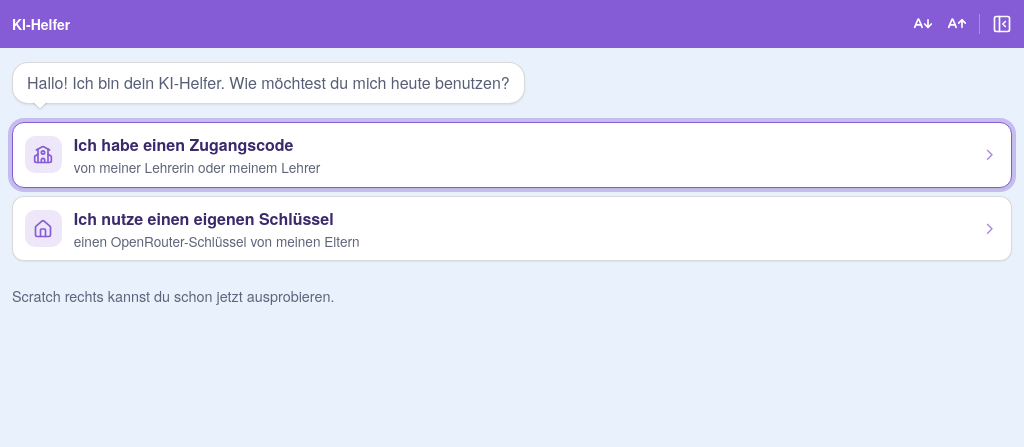
Test: AccessGate › a key in the code field is not sent: the kid is told to pick the other answer
Click the button "Ich habe einen Zugangscode". click: [43, 155]
box: [12,122,1012,188]
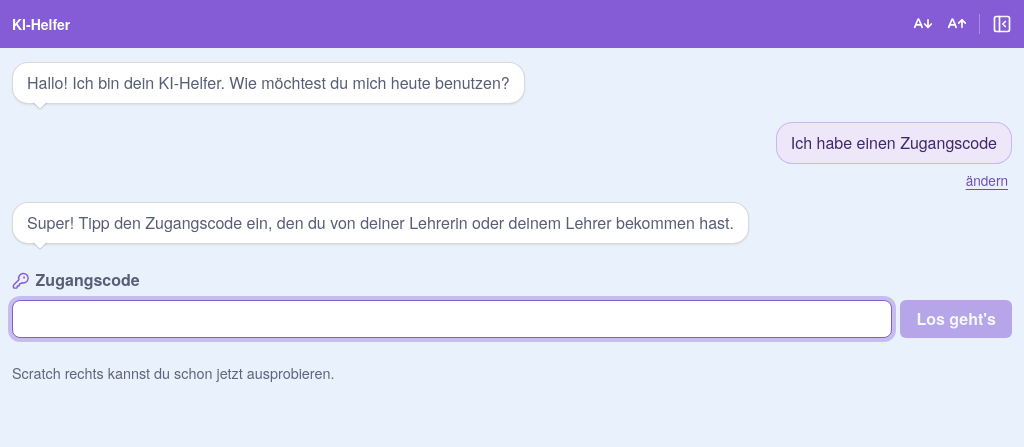
Type "sk-or-v1-AbCdEf0123456789" into the field labelled "Zugangscode". click: [452, 319]
box: [12,300,892,338]
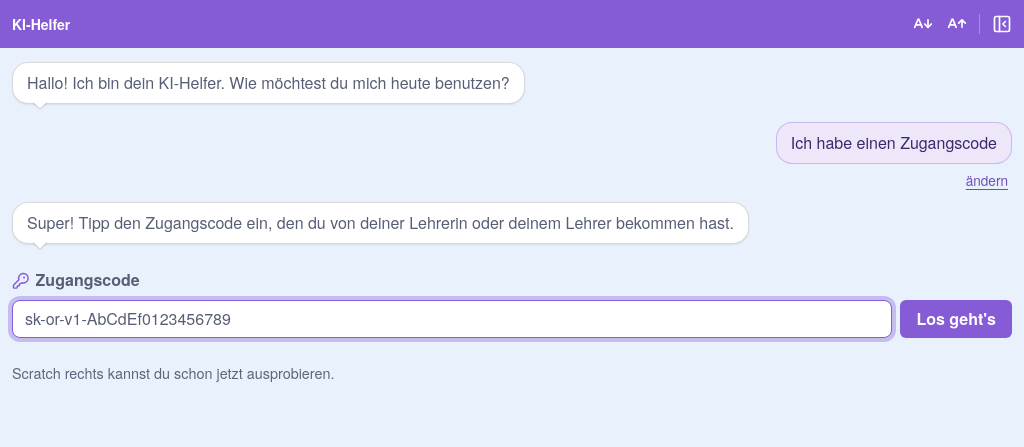
Submit the form from the field labelled "Zugangscode", box [12,300,892,338]
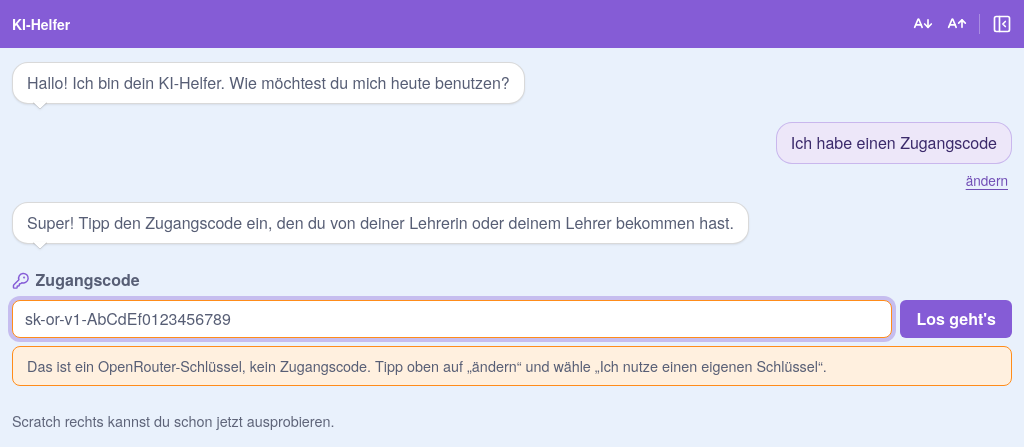
Now the message shows "Das ist ein OpenRouter-Schlüssel", box [27,355,827,376]
